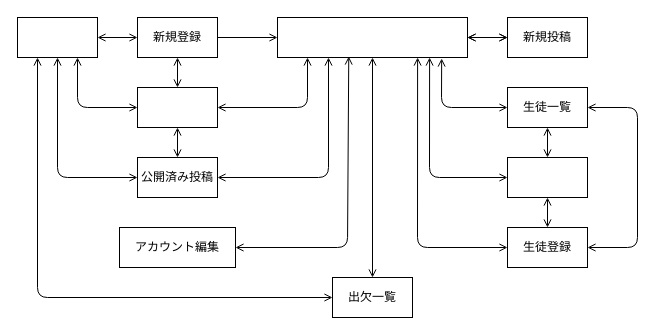
The diagram is 664 pixels wide and 335 high, and some of its shapes have lost their labels. Each missing label, with the centre of its shape:
"TOP" goes at [57,37].
"ログイン" goes at [177,107].
"投稿一覧" goes at [372,37].
"生徒編集" goes at [547,177].
